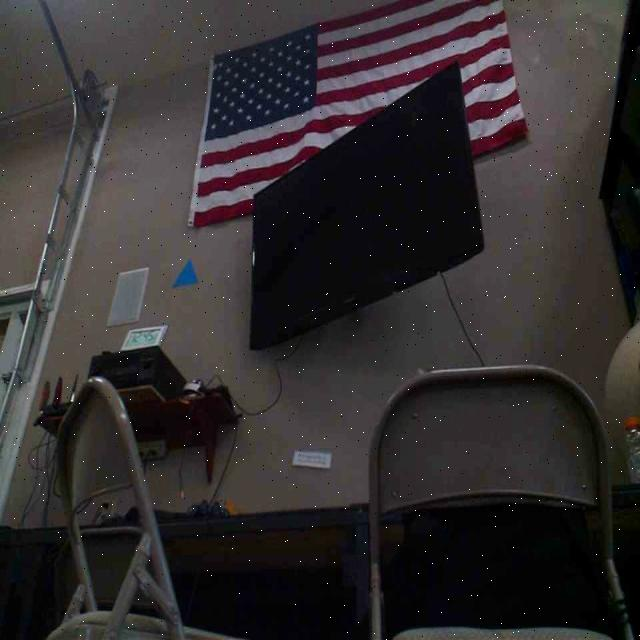triangle_blue: (173, 256, 199, 288)
